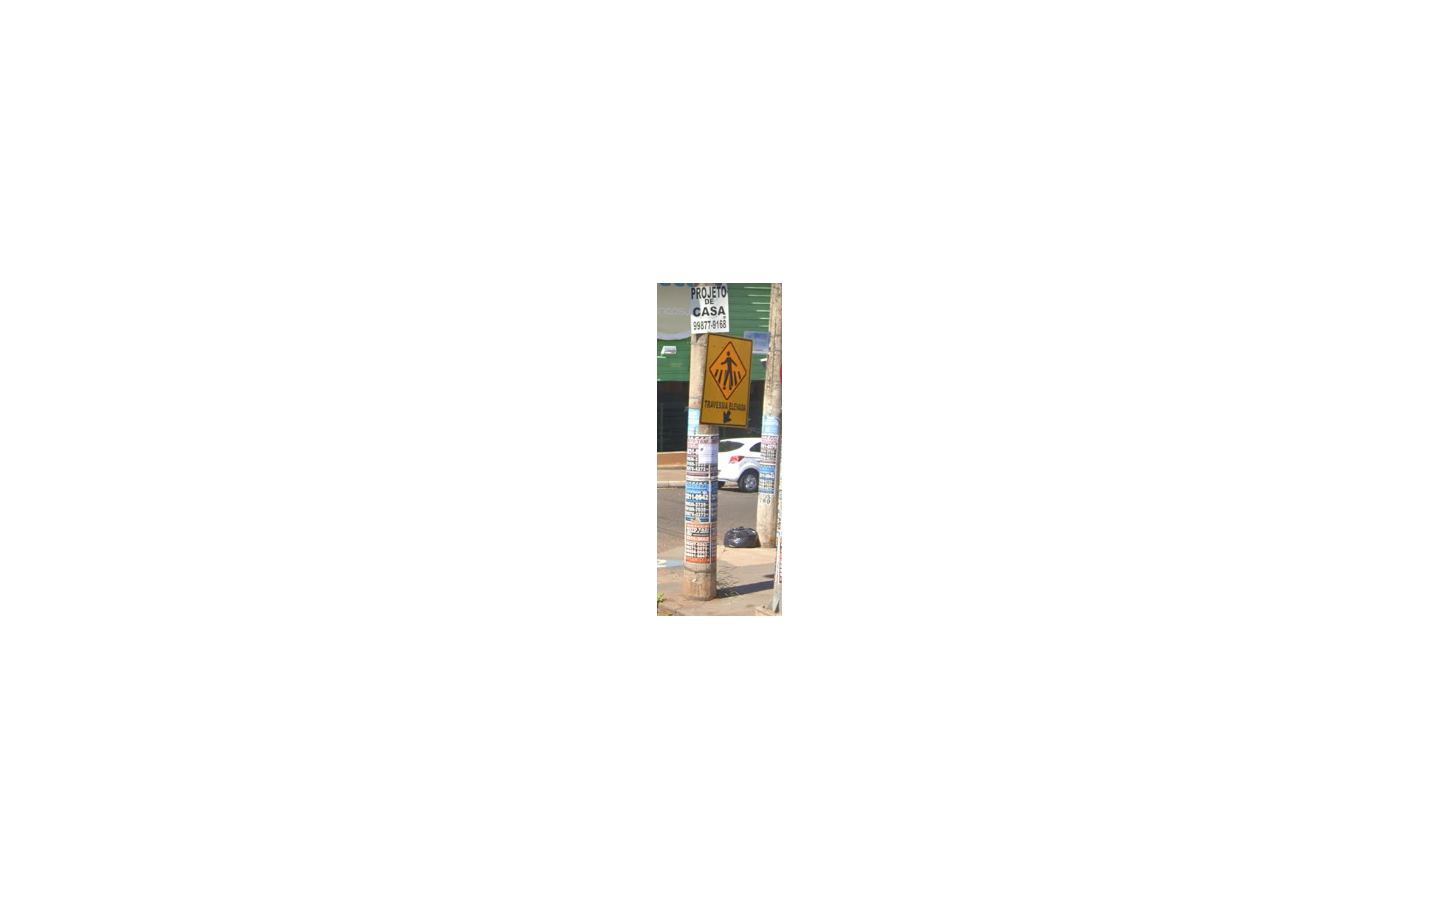telev: (697, 331, 753, 429)
